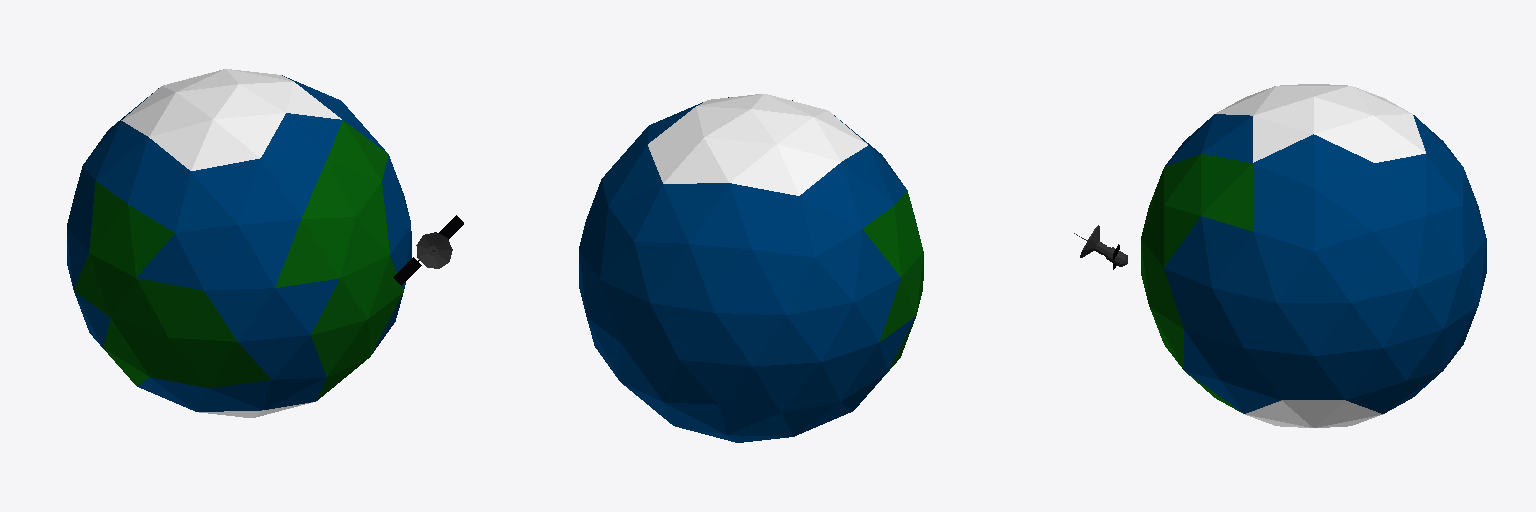
Rendered from Satellite_1236.obj.
3 renders of one model, left to right at view 1: azimuth 30°, elevation 25°; view 2: azimuth 150°, elevation 25°; view 3: azimuth 270°, elevation 25°, orthographic.
Parts seen in each view (by area): view 1: GeoSphere002, Box004; view 2: GeoSphere002; view 3: GeoSphere002, Box004.
Part boxes in pixels (bbox=[...]): GeoSphere002: bbox=[67, 69, 411, 417]; Box004: bbox=[393, 215, 463, 285]; GeoSphere002: bbox=[579, 94, 923, 442]; GeoSphere002: bbox=[1141, 84, 1486, 427]; Box004: bbox=[1074, 225, 1127, 269].
Size of the model in its own units: 377 by 383 by 450.